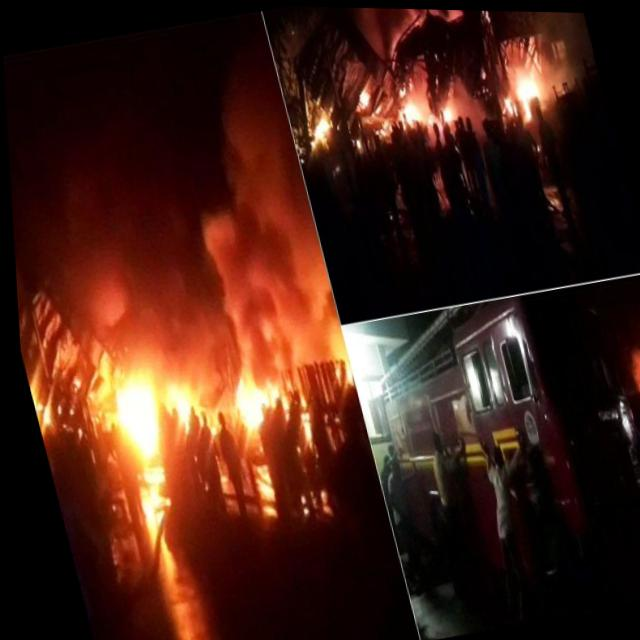fire: (93, 359, 171, 479), (219, 360, 287, 445), (494, 65, 554, 131), (152, 366, 198, 445), (21, 363, 59, 441), (287, 384, 316, 465), (129, 477, 170, 531), (320, 338, 351, 388), (383, 93, 427, 128), (246, 457, 277, 505), (302, 111, 338, 152), (626, 345, 640, 429), (353, 82, 375, 112), (433, 98, 455, 125)
